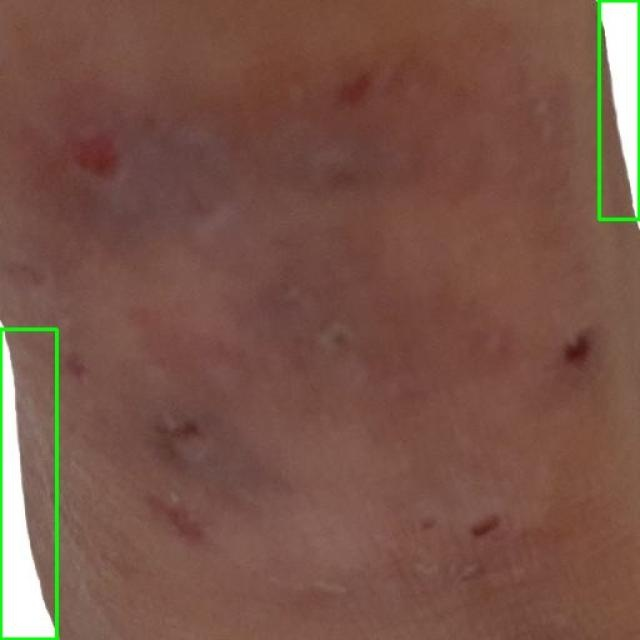Tinea Corporis: (0, 329, 56, 639), (599, 0, 639, 219)
